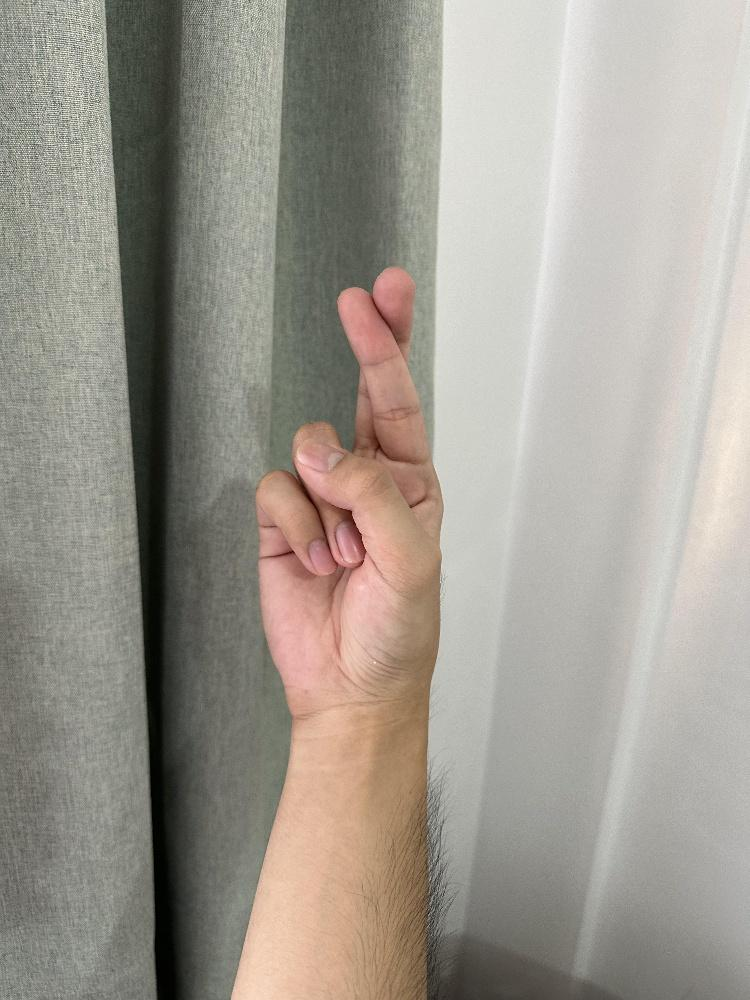r: (252, 262, 449, 718)
